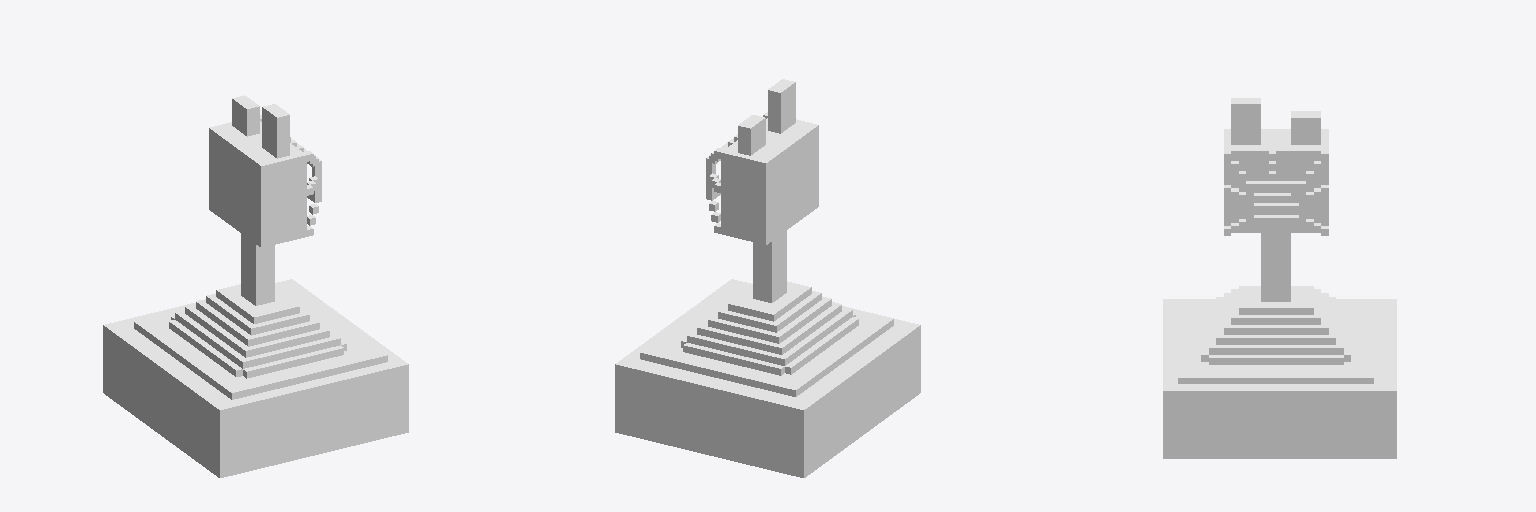
The model's file is Cannon.obj.
The picture shows the model from 3 angles: view 1: azimuth 30°, elevation 25°; view 2: azimuth 150°, elevation 25°; view 3: azimuth 270°, elevation 25°; orthographic projection.
Parts seen in each view (by area): view 1: object 1; view 2: object 1; view 3: object 1.
Part boxes in pixels (left/top/right/bottom): object 1: left=103, top=95, right=408, bottom=477; object 1: left=615, top=79, right=920, bottom=477; object 1: left=1163, top=98, right=1396, bottom=458.
Bounding box in the file's own units: 2.9 × 4.6 × 3.1.